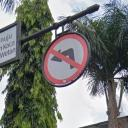NoVirarEsquerda: (44, 34, 88, 84)
